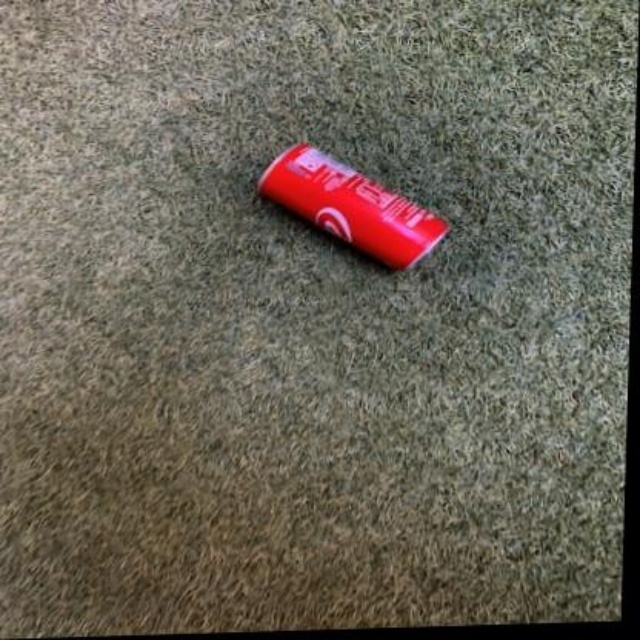trash: (258, 143, 448, 269)
